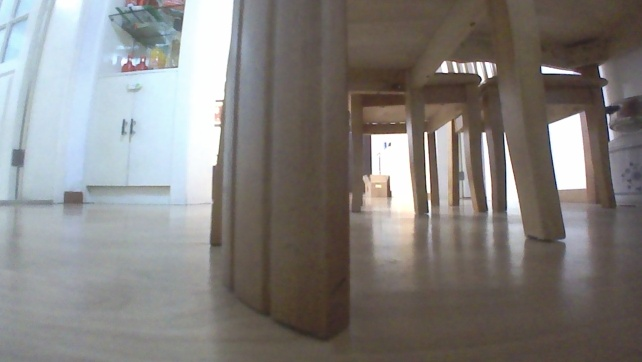dining_table1: (207, 0, 641, 344)
